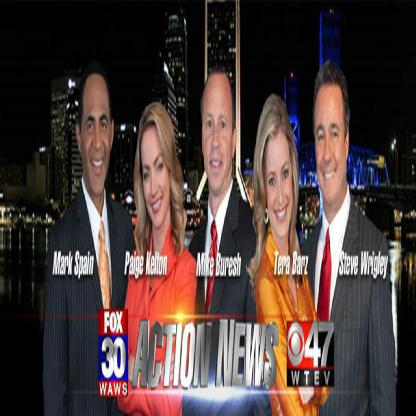face: (261, 130, 295, 239), (315, 89, 346, 205), (203, 80, 233, 196), (82, 76, 110, 194), (141, 128, 170, 233)
